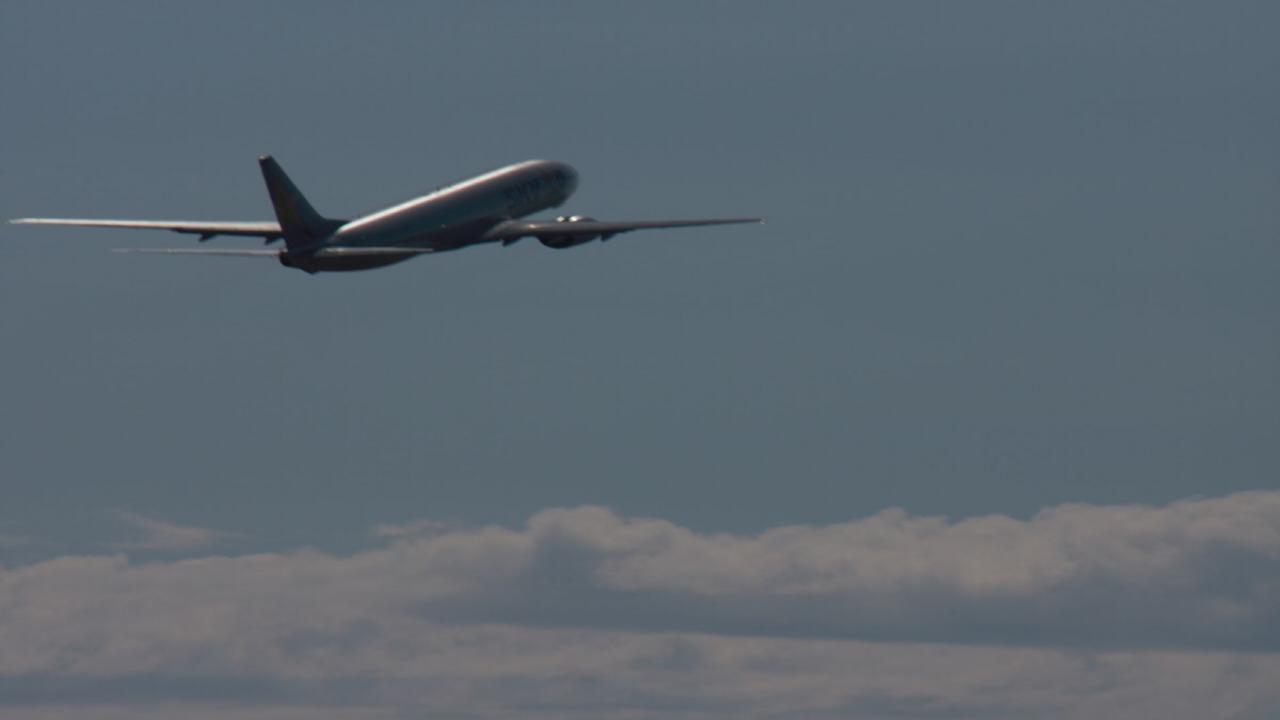Airplane: (0, 142, 783, 286)
